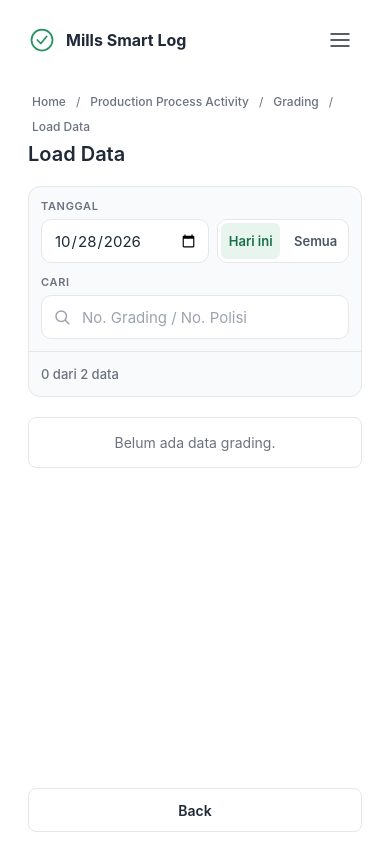
DataPreviewGradingView › filters records by exact date match when a date filter is applied
Type "2026-08-11" into the date field with test id "date-filter-input" at (125, 241), box x1=41 y1=219 x2=209 y2=263
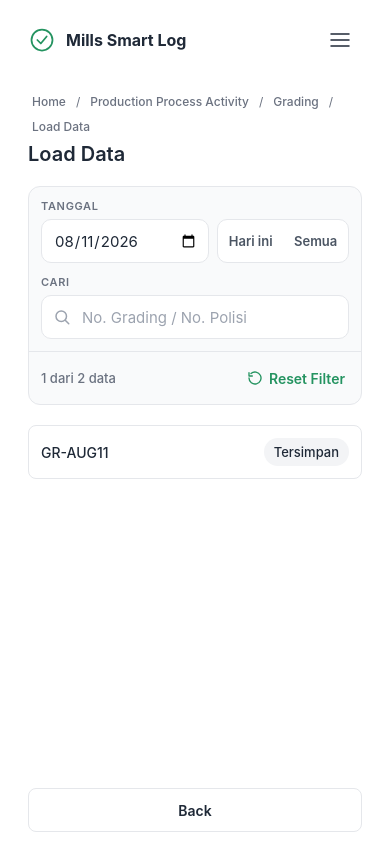
Expected: the button with test id "record-item-rec-aug11" is shown, x1=28 y1=425 x2=362 y2=479
